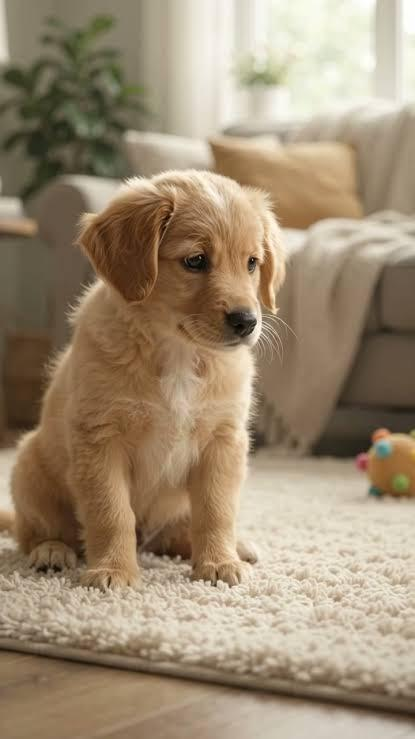puppy-dog: (4, 168, 293, 594)
